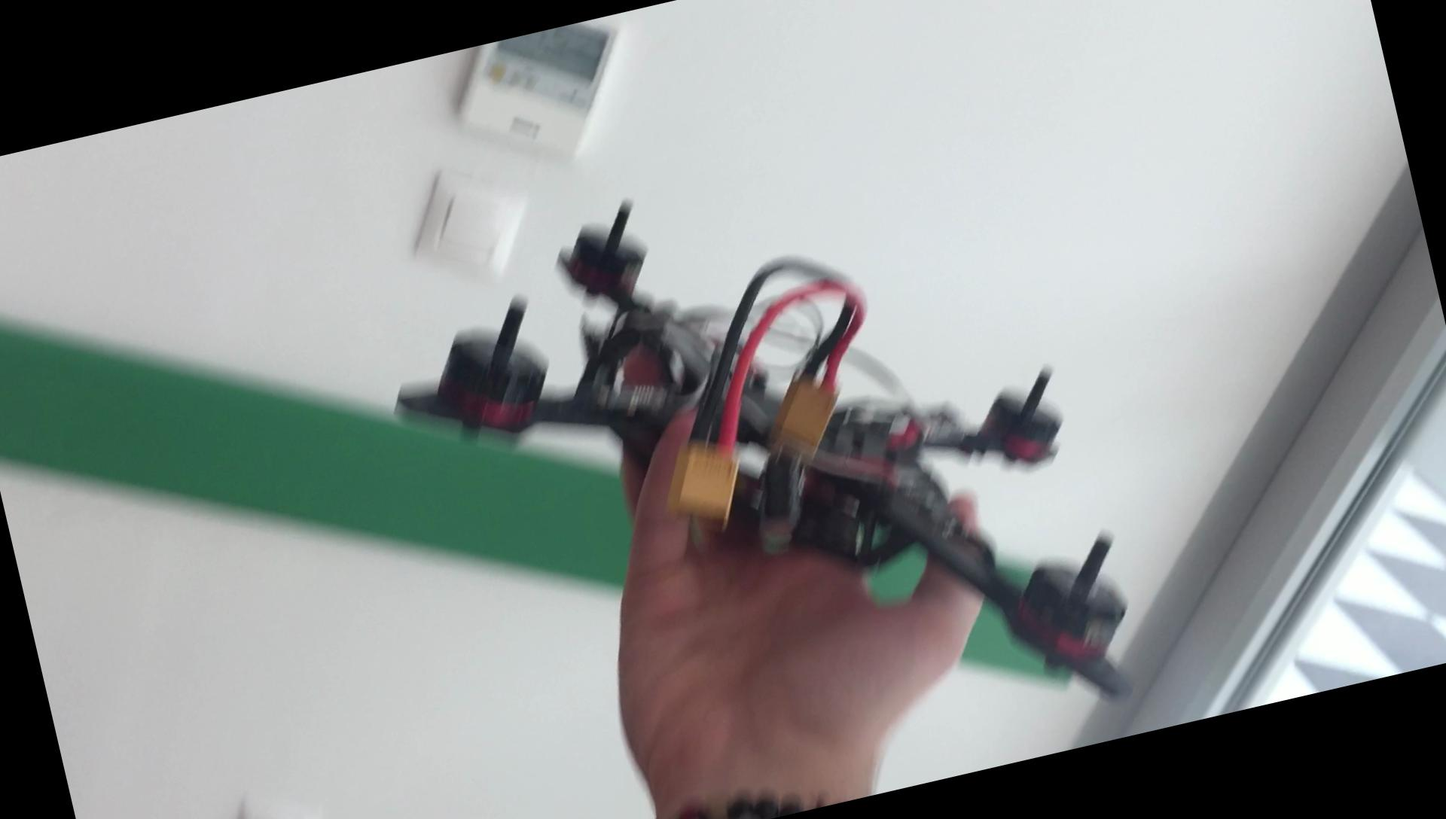drone: (355, 119, 1185, 819)
